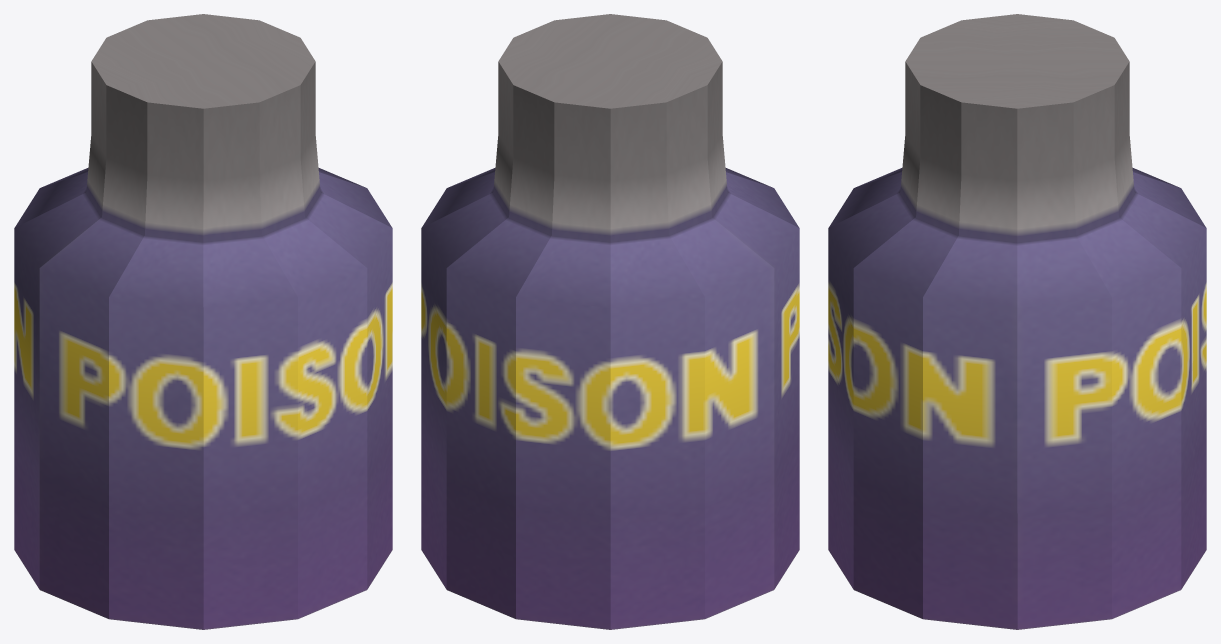
Rendered from poison.FBX.
3 views of the same model, side by side, from view 1: azimuth 30°, elevation 25°; view 2: azimuth 150°, elevation 25°; view 3: azimuth 270°, elevation 25° (orthographic).
Visible parts, largest first — view 1: pCylinder1; view 2: pCylinder1; view 3: pCylinder1.
Boxes of the visible parts, bbox=[...] form: pCylinder1: bbox=[14, 14, 392, 629]; pCylinder1: bbox=[421, 14, 799, 629]; pCylinder1: bbox=[828, 14, 1206, 629].
Bounding box in the file's own units: 1.48 × 2.11 × 1.48.
